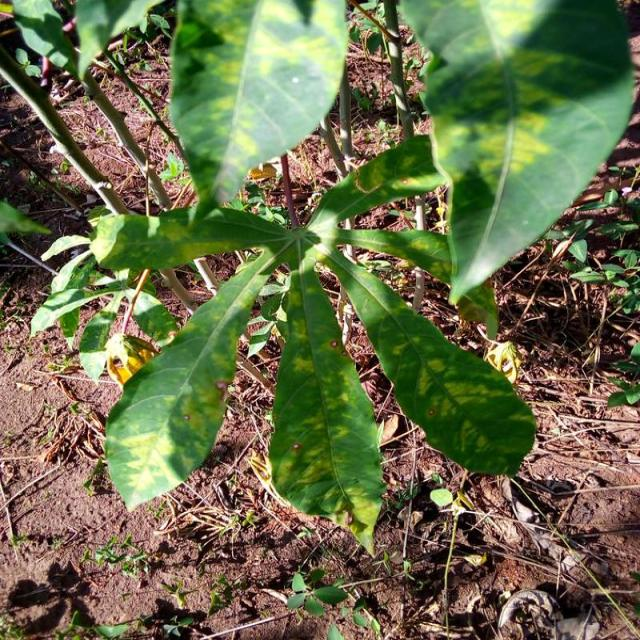cassava leaf: (399, 0, 635, 320), (316, 242, 537, 478), (102, 242, 284, 513), (167, 0, 349, 220), (268, 250, 387, 556)
